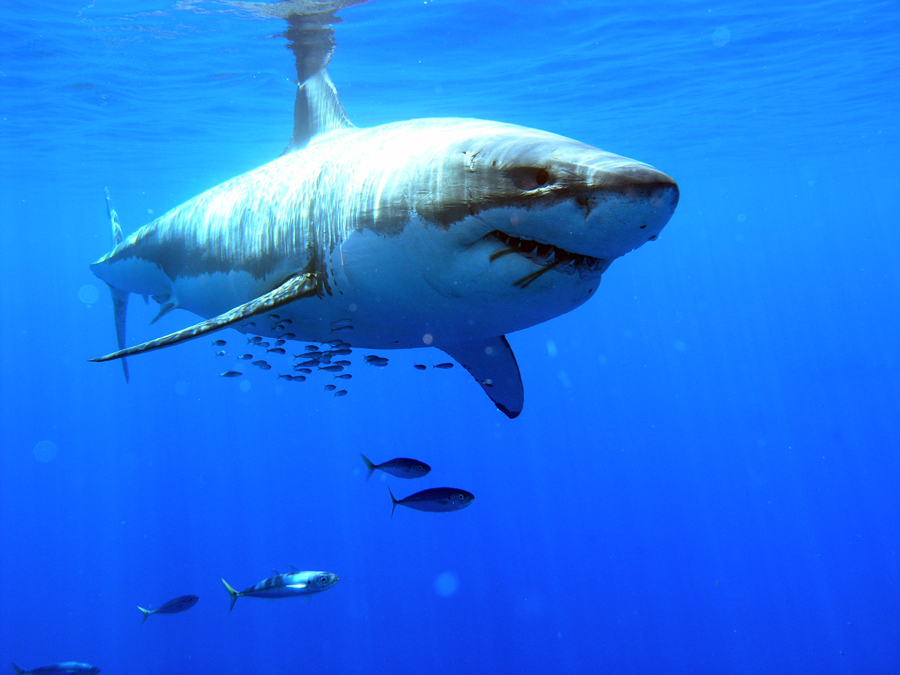Carcharodon_carcharias: (52, 67, 694, 445)
